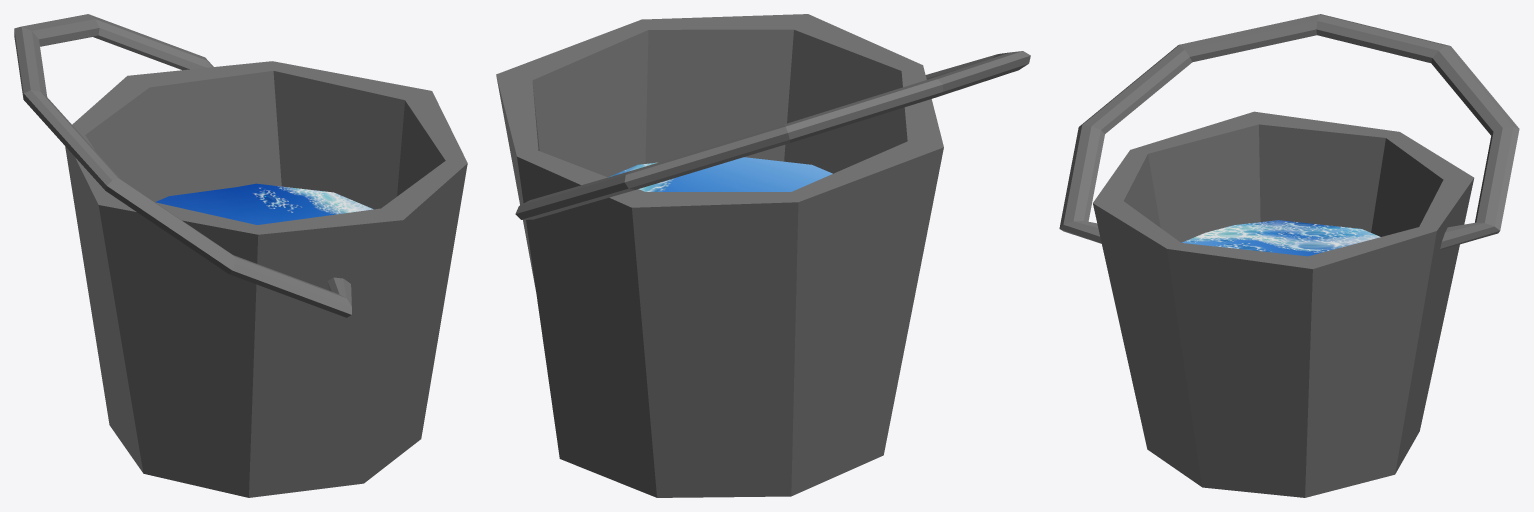
File: Bucket.fbx
3 renders of one model, left to right at view 1: azimuth 30°, elevation 25°; view 2: azimuth 150°, elevation 25°; view 3: azimuth 270°, elevation 25°, orthographic. The views are drawn at different scales.
Parts seen in each view (by area): view 1: Bucket; view 2: Bucket; view 3: Bucket.
Part boxes in pixels (left/top/right/bottom): Bucket: left=14, top=14, right=467, bottom=497; Bucket: left=496, top=14, right=1030, bottom=497; Bucket: left=1059, top=14, right=1519, bottom=497.
Size of the model in its own units: 55.63 by 49.94 by 62.36.
1 material, 1 textured.
